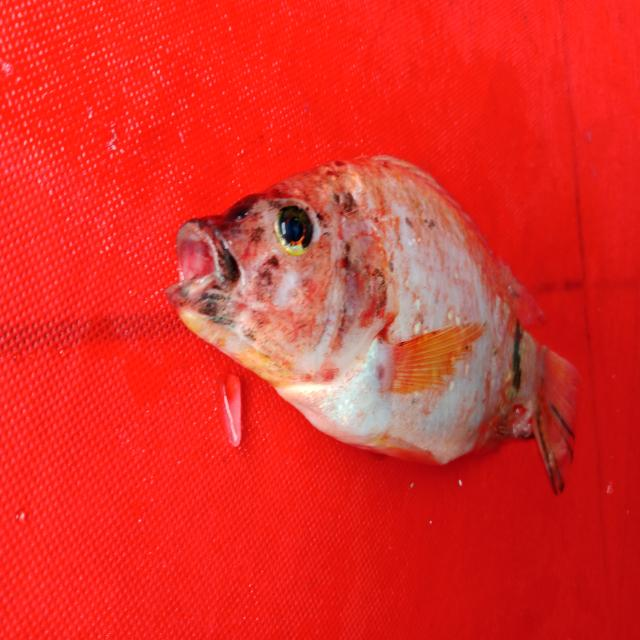ikan: (164, 145, 598, 505)
